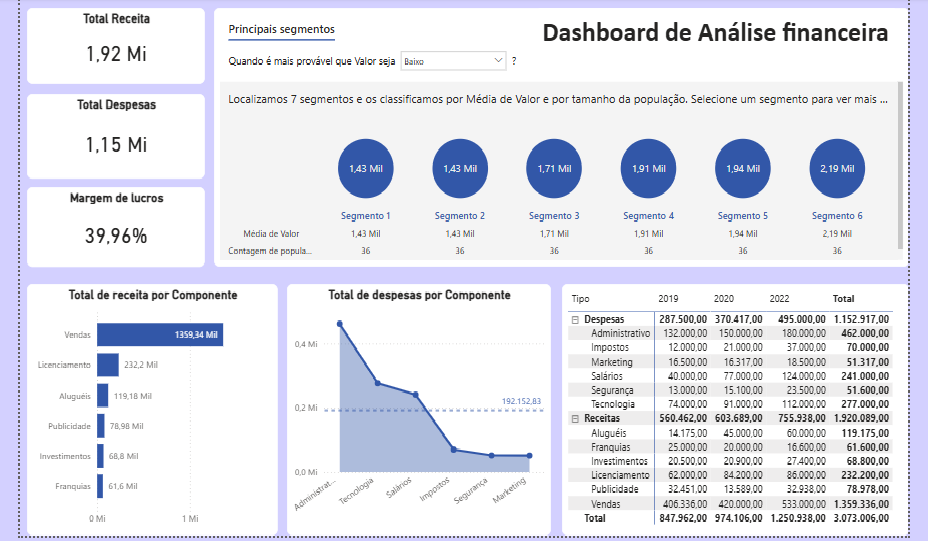

What the dashboard file says about the page in this screenshot:
{"tool":"powerbi","page":{"name":"Página 1","canvas":[1280,720],"ordinal":0},"visuals":[{"type":"card","title":"Total Receita","fields":{"Values":["Medidas.Total receita"]},"box":[10.1,13,256.3,102.2],"z":0},{"type":"card","title":"Total Despesas","fields":{"Values":["Medidas.Total despesas"]},"box":[10.1,128.2,256.3,113.8],"z":1000},{"type":"card","title":"Margem de lucros","fields":{"Values":["Medidas.Margem de lucro"]},"box":[10.1,253.4,256.3,106.6],"z":2000},{"type":"clusteredBarChart","title":"Total de receita por Componente","fields":{"Category":["DadosFinanceiros.Componente"],"Y":["Medidas.Total receita"]},"box":[10.1,383,361.4,337],"z":3000},{"type":"areaChart","title":"Total de despesas por Componente","fields":{"Category":["DadosFinanceiros.Componente"],"Y":["Medidas.Total despesas"]},"box":[384.5,383,380.2,337],"z":4000},{"type":"pivotTable","fields":{"Rows":["DadosFinanceiros.Tipo","DadosFinanceiros.Componente"],"Values":["Sum(DadosFinanceiros.Valor)"],"Columns":["DadosFinanceiros.Data.Variation.Hierarquia de datas.Ano"]},"box":[780.5,383,499.7,337],"z":5000},{"type":"keyDriversVisual","fields":{"Target":["DadosFinanceiros.Valor"],"ExplainBy":["DadosFinanceiros.Tipo","DadosFinanceiros.Componente"]},"box":[279.4,13,1000.8,347],"z":6000},{"type":"textbox","box":[743,13,521.3,79.2],"z":7000}]}

Visuals, with their boxes on the page's 1280x720 design canvas (x1, y1, x2, y2). These are canvas units, not pixel positions in the 928x541 screenshot, which may show the page scaled, cropped or inside an application window:
"Total Receita" card: BBox(10, 13, 266, 115)
"Total Despesas" card: BBox(10, 128, 266, 242)
"Margem de lucros" card: BBox(10, 253, 266, 360)
"Total de receita por Componente" clusteredBarChart: BBox(10, 383, 372, 720)
"Total de despesas por Componente" areaChart: BBox(384, 383, 765, 720)
pivotTable - DadosFinanceiros.Tipo x DadosFinanceiros.Componente: BBox(780, 383, 1280, 720)
keyDriversVisual - DadosFinanceiros.Valor x DadosFinanceiros.Tipo: BBox(279, 13, 1280, 360)
textbox: BBox(743, 13, 1264, 92)
